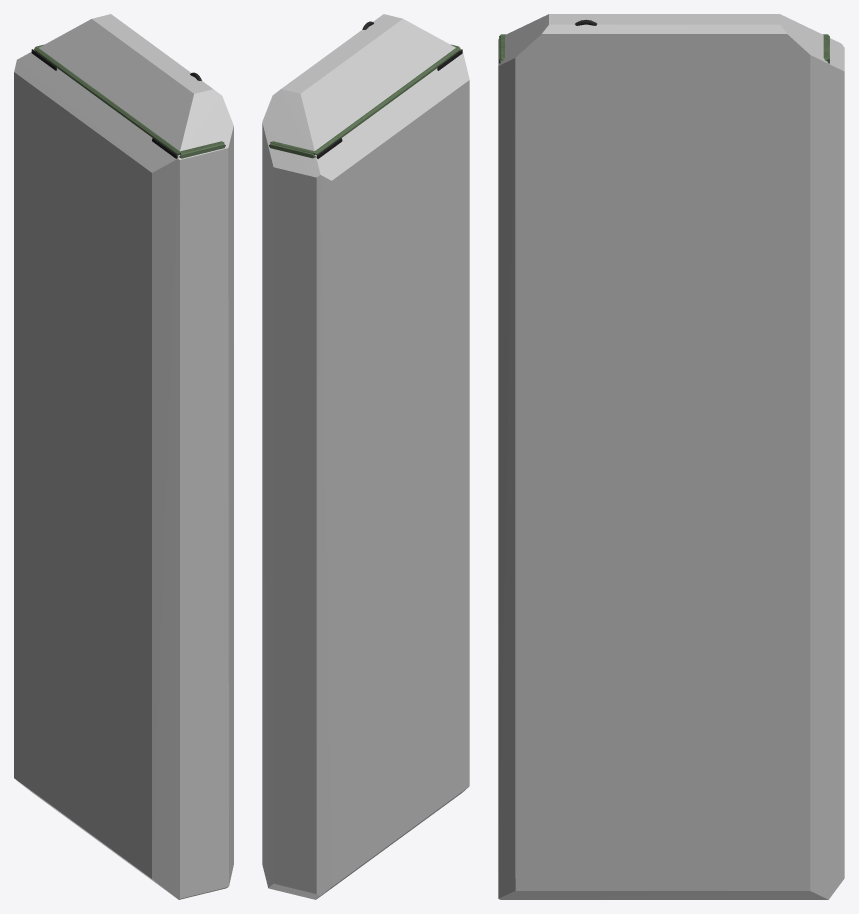
Rendered from SM_SMJC_Door01C.fbx.
The picture shows the model from 3 angles, left to right: view 1: azimuth 30°, elevation 25°; view 2: azimuth 150°, elevation 25°; view 3: azimuth 270°, elevation 25°; orthographic projection. The views are drawn at different scales.
Visible parts, largest first — view 1: SM_SMJC_Door01C_ConvexHulls, SM_SMJC_Door01C; view 2: SM_SMJC_Door01C_ConvexHulls, SM_SMJC_Door01C; view 3: SM_SMJC_Door01C_ConvexHulls.
Boxes of the visible parts, left/top/right/bottom form: SM_SMJC_Door01C_ConvexHulls: left=14, top=14, right=233, bottom=899; SM_SMJC_Door01C: left=31, top=44, right=225, bottom=158; SM_SMJC_Door01C_ConvexHulls: left=262, top=14, right=469, bottom=899; SM_SMJC_Door01C: left=269, top=21, right=462, bottom=158; SM_SMJC_Door01C_ConvexHulls: left=498, top=14, right=844, bottom=899.
Size of the model in its own units: 19.88 by 66.82 by 188.
3 materials, 2 textured.
